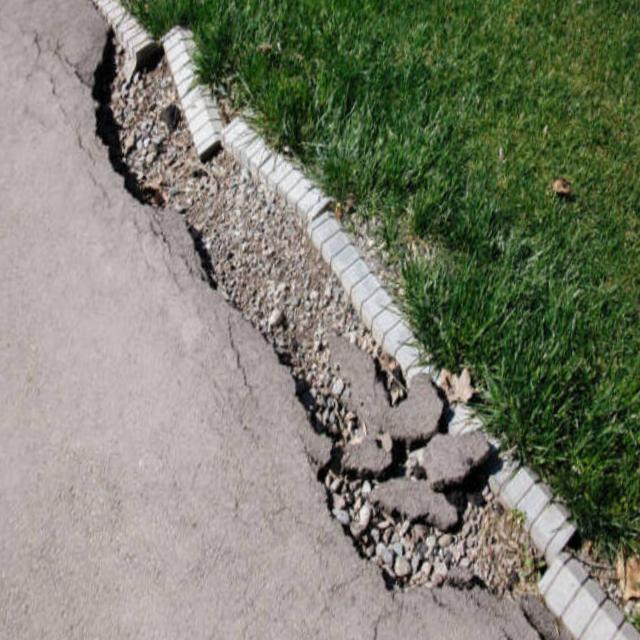Pinggir: (91, 0, 584, 617)
